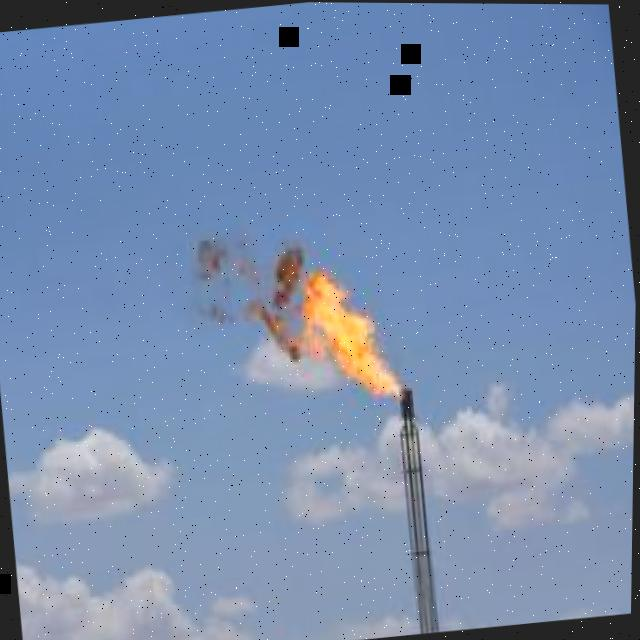fire: (249, 245, 404, 397)
smoke: (188, 236, 230, 278), (192, 303, 237, 323), (239, 257, 268, 287)
